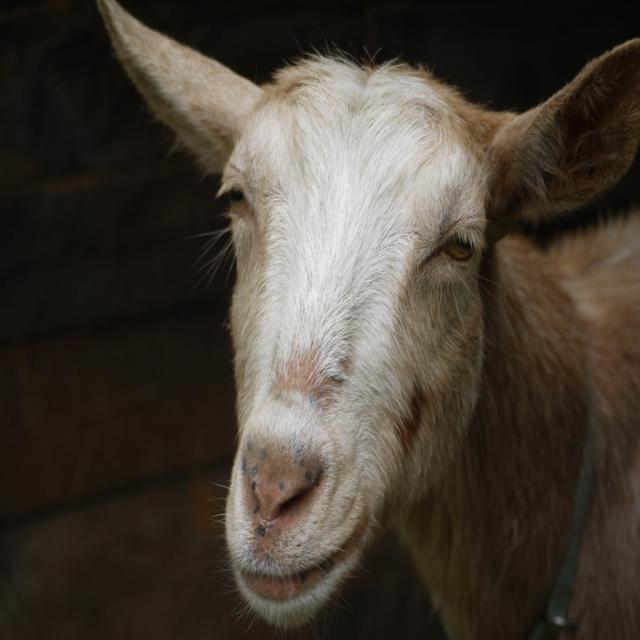Goat: (94, 0, 640, 640)
